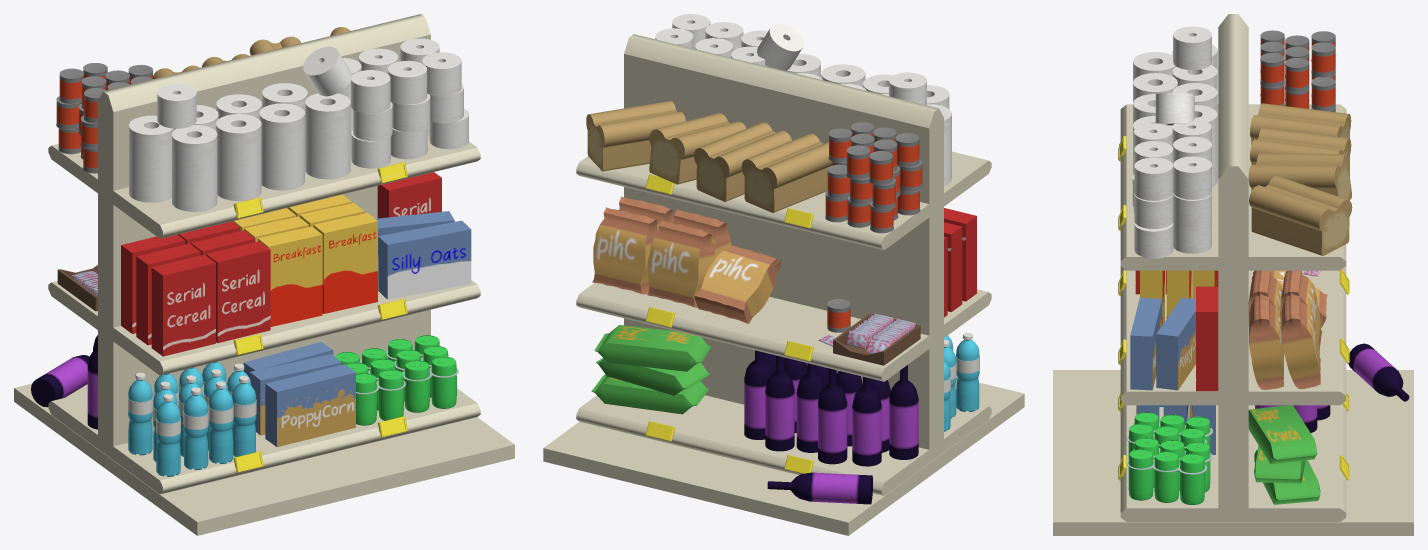
Rendered from shelf-textured-awesome.fbx.
3 renders of one model, left to right at view 1: azimuth 30°, elevation 25°; view 2: azimuth 150°, elevation 25°; view 3: azimuth 270°, elevation 25°, orthographic. The views are drawn at different scales.
Visible parts, largest first — view 1: Stand, pCube1, Bottom_Shelf, Top_Shelf, Middle_Shelf, pCube141, pCube144, pCube128, pCube133, pCube127, pCube132, pCylinder110 (+48 smaller); view 2: Stand, pCube1, Middle_Shelf, Bottom_Shelf, Top_Shelf, Bread_Loaf5, pCube123, Bread_Loaf2, pCube84, pCube83, Bread_Loaf4, pCube82 (+42 smaller); view 3: pCube1, Stand, Bottom_Shelf, Middle_Shelf, Top_Shelf, Bread_Loaf2, Bread_Loaf3, pCube82, pCube23, pCube83, pCube25, Bread_Loaf5 (+42 smaller).
Part boxes in pixels (x1,y1,x2,y2): Stand: [98, 14, 430, 457]; pCube1: [14, 383, 514, 535]; Bottom_Shelf: [48, 388, 480, 494]; Top_Shelf: [48, 136, 480, 238]; Middle_Shelf: [48, 280, 480, 375]; pCube141: [378, 220, 471, 299]; pCube144: [265, 364, 355, 447]; pCube128: [151, 254, 215, 356]; pCube133: [313, 212, 377, 313]; pCube127: [206, 241, 270, 343]; pCube132: [258, 226, 322, 326]; pCylinder110: [172, 125, 217, 211]; Stand: [624, 34, 943, 460]; pCube1: [543, 377, 1024, 535]; Middle_Shelf: [576, 282, 991, 381]; Bottom_Shelf: [576, 395, 991, 495]; Top_Shelf: [576, 151, 991, 250]; Bread_Loaf5: [741, 133, 831, 212]; pCube123: [694, 245, 781, 323]; Bread_Loaf2: [586, 101, 685, 171]; pCube84: [647, 220, 715, 307]; pCube83: [592, 207, 658, 294]; Bread_Loaf4: [694, 122, 791, 201]; pCube82: [594, 325, 711, 371]; pCube1: [1053, 370, 1413, 535]; Stand: [1218, 14, 1248, 519]; Bottom_Shelf: [1120, 403, 1346, 521]; Middle_Shelf: [1120, 266, 1346, 405]; Top_Shelf: [1120, 104, 1346, 270]; Bread_Loaf2: [1249, 176, 1352, 255]; Bread_Loaf3: [1248, 153, 1351, 200]; pCube82: [1248, 405, 1317, 464]; pCube23: [1156, 297, 1195, 390]; pCube83: [1281, 293, 1320, 389]; pCube25: [1249, 293, 1283, 389]; Bread_Loaf5: [1250, 103, 1351, 144].
Bounding box in the file's own units: 24.7 × 28.4 × 24.
Materials: 1 (1 with a texture image).
